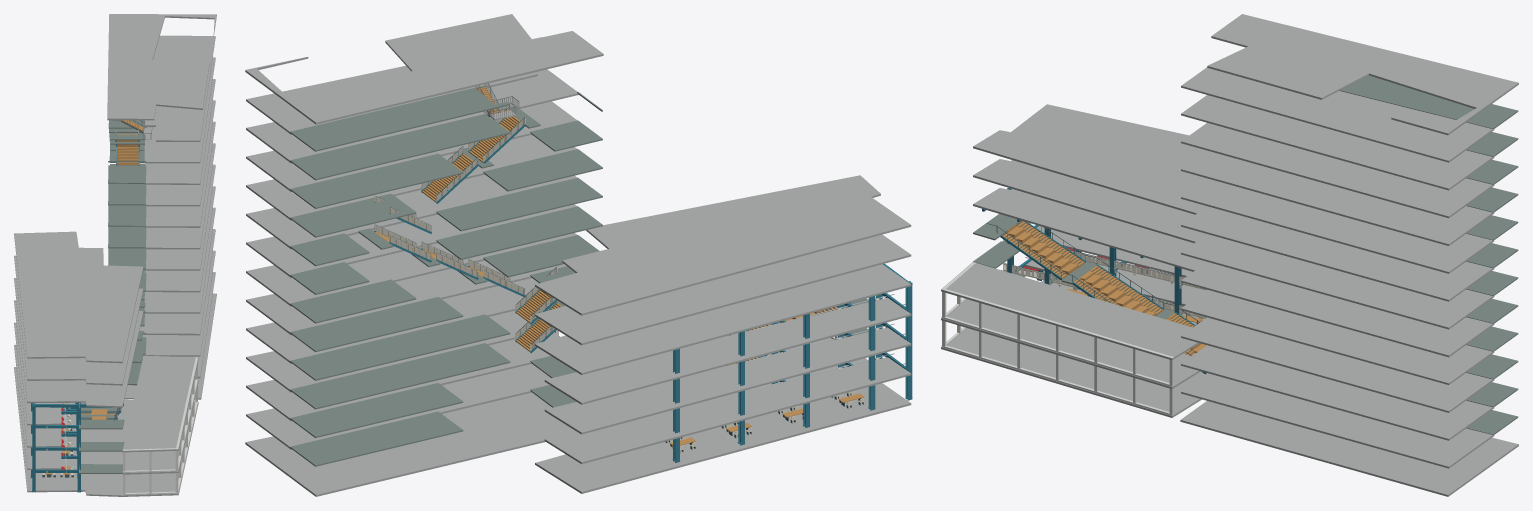
File: cbg-interior.glb
The picture shows the model from 3 angles, left to right: view 1: azimuth 30°, elevation 25°; view 2: azimuth 150°, elevation 25°; view 3: azimuth 270°, elevation 25°; orthographic projection. The views are drawn at different scales.
Visible parts, largest first — view 1: CBG_INTERIOR; view 2: CBG_INTERIOR; view 3: CBG_INTERIOR.
Part boxes in pixels (left/top/right/bottom): CBG_INTERIOR: left=14, top=14, right=216, bottom=496; CBG_INTERIOR: left=245, top=14, right=912, bottom=496; CBG_INTERIOR: left=941, top=14, right=1518, bottom=496.
Bounding box in the file's own units: 67.42 × 52.47 × 75.61.
